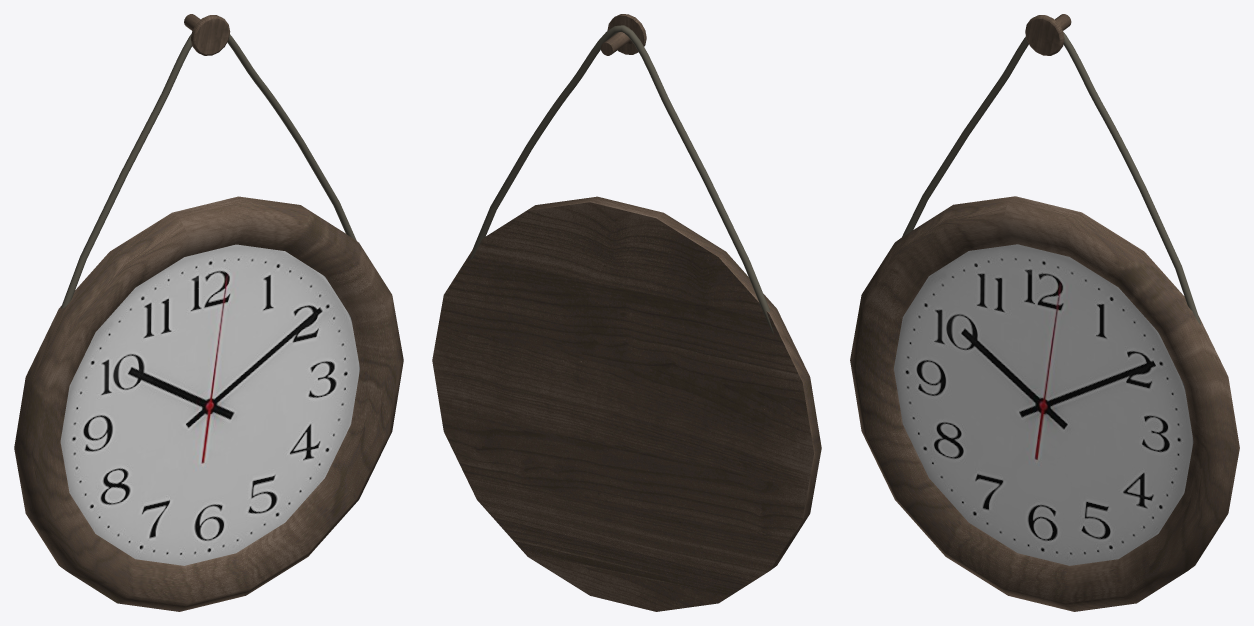
Rendered from Clock.FBX.
3 views of the same model, side by side, from view 1: azimuth 30°, elevation 25°; view 2: azimuth 150°, elevation 25°; view 3: azimuth 330°, elevation 25° (orthographic).
Parts seen in each view (by area): view 1: Clock; view 2: Clock; view 3: Clock.
Part boxes in pixels (left/top/right/bottom): Clock: left=14, top=14, right=403, bottom=611; Clock: left=432, top=14, right=821, bottom=611; Clock: left=850, top=14, right=1239, bottom=611.
Bounding box in the file's own units: 38.23 × 55.98 × 5.39.
1 material, 1 textured.
